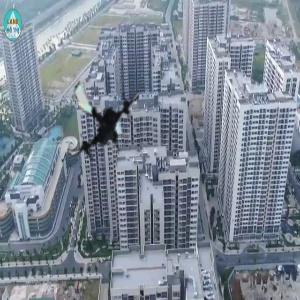drone: (52, 64, 152, 164)
